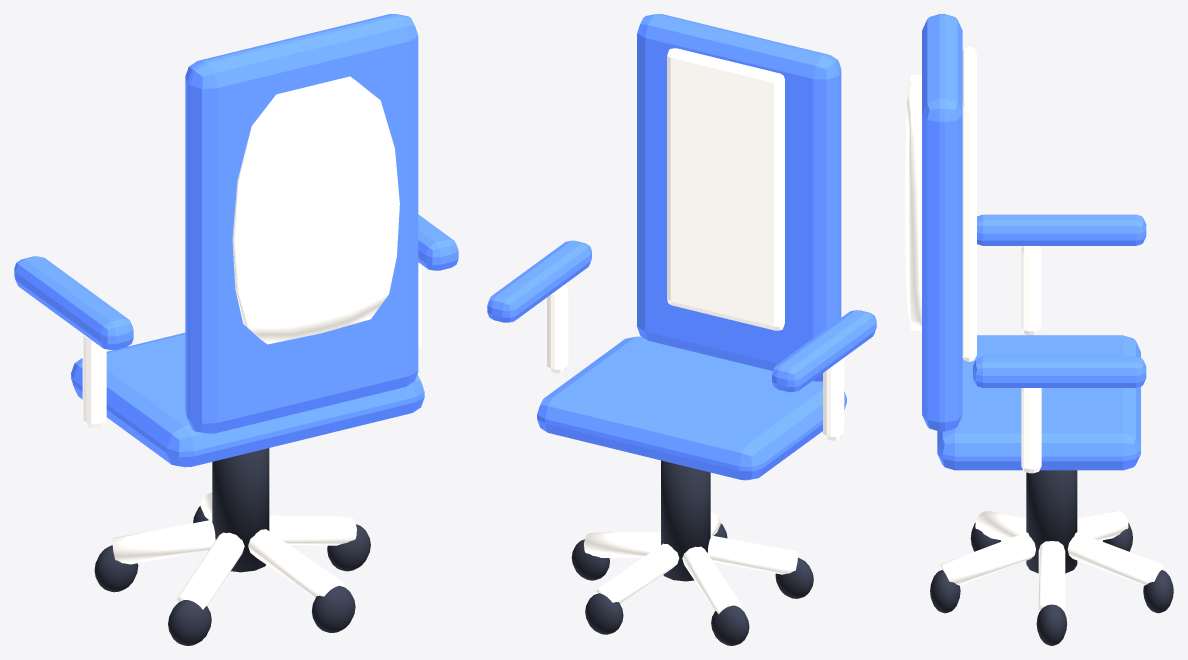
File: fixture.glb
The picture shows the model from 3 angles, left to right: view 1: azimuth 30°, elevation 25°; view 2: azimuth 150°, elevation 25°; view 3: azimuth 270°, elevation 25°; orthographic projection. The views are drawn at different scales.
Parts seen in each view (by area): view 1: StaticBatch__chair-root__fixture-chair-blue, StaticBatch__chair-root__fixture-ivory, Chair_Seat, StaticBatch__chair-base__fixture-dark-plastic, StaticBatch__chair-base__fixture-ivory; view 2: StaticBatch__chair-root__fixture-chair-blue, StaticBatch__chair-root__fixture-ivory, Chair_Seat, StaticBatch__chair-base__fixture-dark-plastic, StaticBatch__chair-base__fixture-ivory; view 3: StaticBatch__chair-root__fixture-chair-blue, Chair_Seat, StaticBatch__chair-root__fixture-ivory, StaticBatch__chair-base__fixture-ivory, StaticBatch__chair-base__fixture-dark-plastic.
Boxes of the visible parts, <box> form: StaticBatch__chair-root__fixture-chair-blue: <box>14,14,458,433</box>; StaticBatch__chair-root__fixture-ivory: <box>82,76,421,428</box>; Chair_Seat: <box>71,332,424,467</box>; StaticBatch__chair-base__fixture-dark-plastic: <box>94,448,370,645</box>; StaticBatch__chair-base__fixture-ivory: <box>112,492,356,609</box>; StaticBatch__chair-root__fixture-chair-blue: <box>487,14,876,392</box>; StaticBatch__chair-root__fixture-ivory: <box>547,48,844,440</box>; Chair_Seat: <box>537,336,846,480</box>; StaticBatch__chair-base__fixture-dark-plastic: <box>571,460,813,645</box>; StaticBatch__chair-base__fixture-ivory: <box>584,511,797,614</box>; StaticBatch__chair-root__fixture-chair-blue: <box>922,14,1146,431</box>; Chair_Seat: <box>937,335,1140,470</box>; StaticBatch__chair-root__fixture-ivory: <box>905,46,1041,473</box>; StaticBatch__chair-base__fixture-ivory: <box>940,511,1163,611</box>; StaticBatch__chair-base__fixture-dark-plastic: <box>930,470,1173,645</box>.
Size of the model in its own units: 0.725 by 1.17 by 0.5272.
